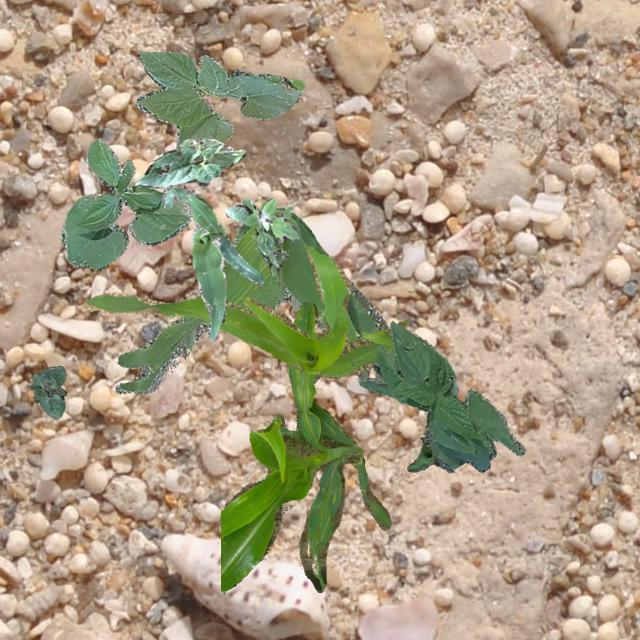crop: (220, 300, 390, 592), (84, 246, 406, 376), (358, 320, 524, 470), (60, 138, 192, 268), (134, 50, 304, 148), (160, 183, 262, 339), (134, 138, 244, 186), (406, 374, 458, 472), (28, 364, 66, 418)
weed: (114, 206, 396, 394), (224, 197, 298, 274)
